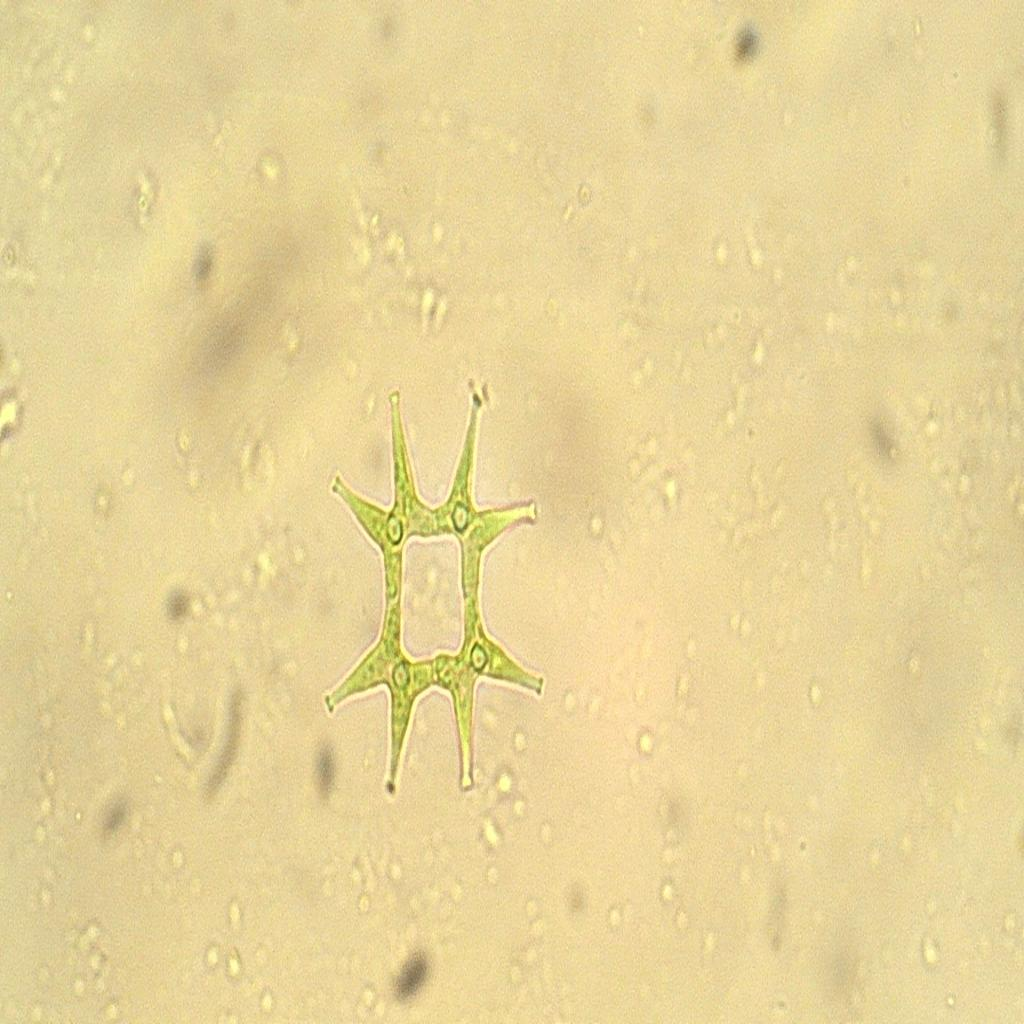Pediastrum_CO: (315, 374, 553, 819)
